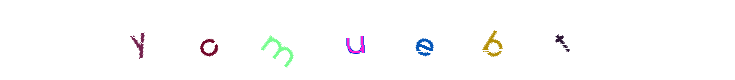B: (368, 0, 448, 80)
C: (238, 0, 318, 80)
E: (327, 0, 407, 80)
M: (316, 0, 396, 80)
T: (452, 0, 532, 80)
U: (321, 0, 401, 80)
Y: (212, 0, 292, 80)
